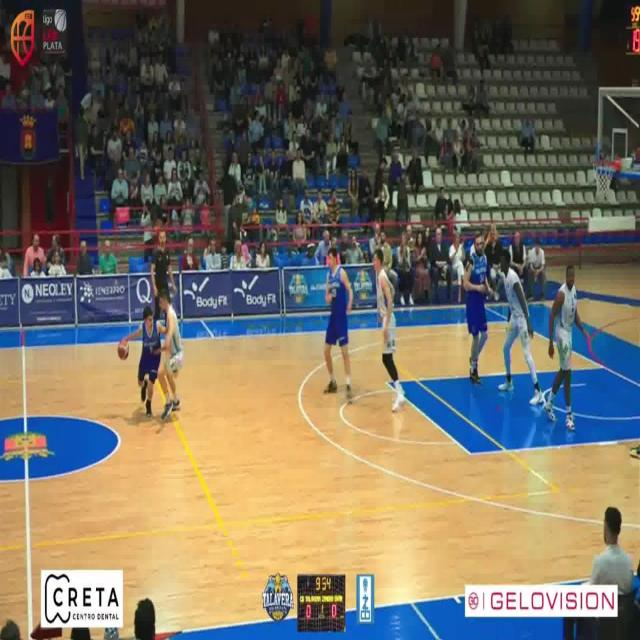ball: (116, 338, 129, 359)
basket: (597, 161, 617, 201)
player: (499, 248, 546, 406), (545, 263, 589, 431), (117, 305, 166, 416), (374, 247, 405, 412), (324, 244, 353, 400), (464, 231, 492, 383), (157, 290, 183, 419)
referee: (150, 229, 176, 318)
